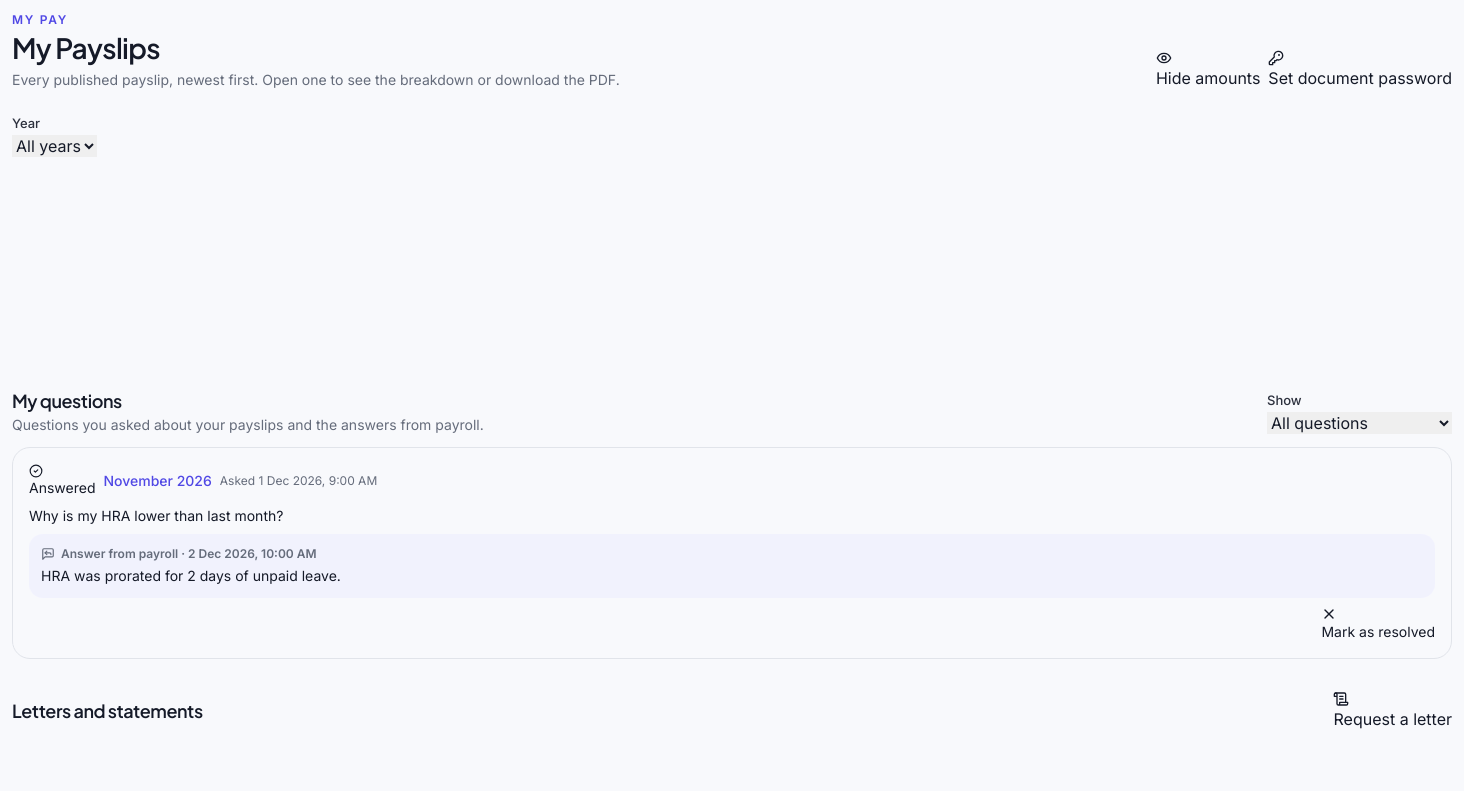
it: Payslip questions (employee) › surfaces a stale close with the conflict banner
The image size is (1464, 791).
Click the button with aria-label "Close question" at (1378, 624), box [1321,606,1435,642]
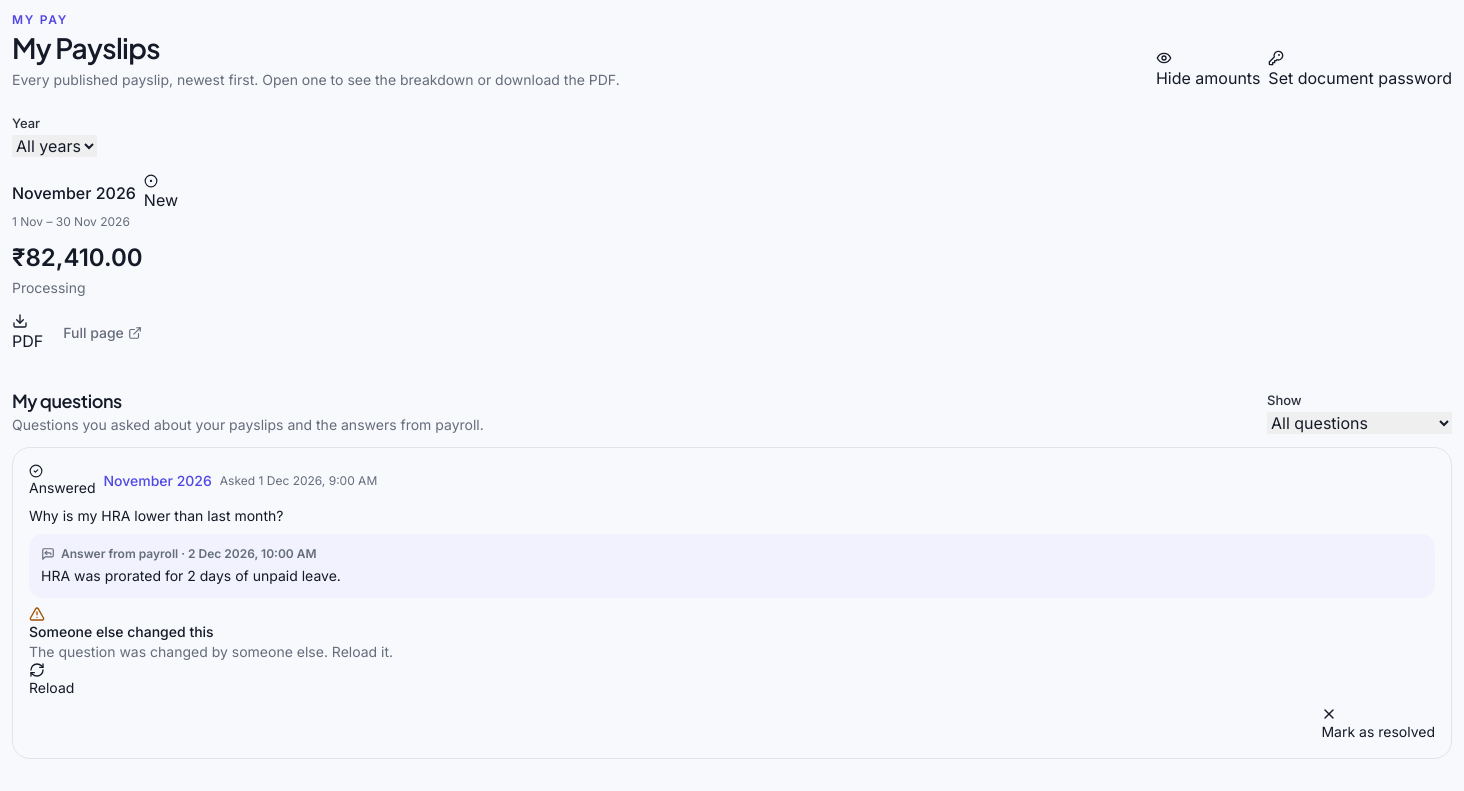
Expected: the text "Someone else changed this" is shown, [29,622,214,640]
